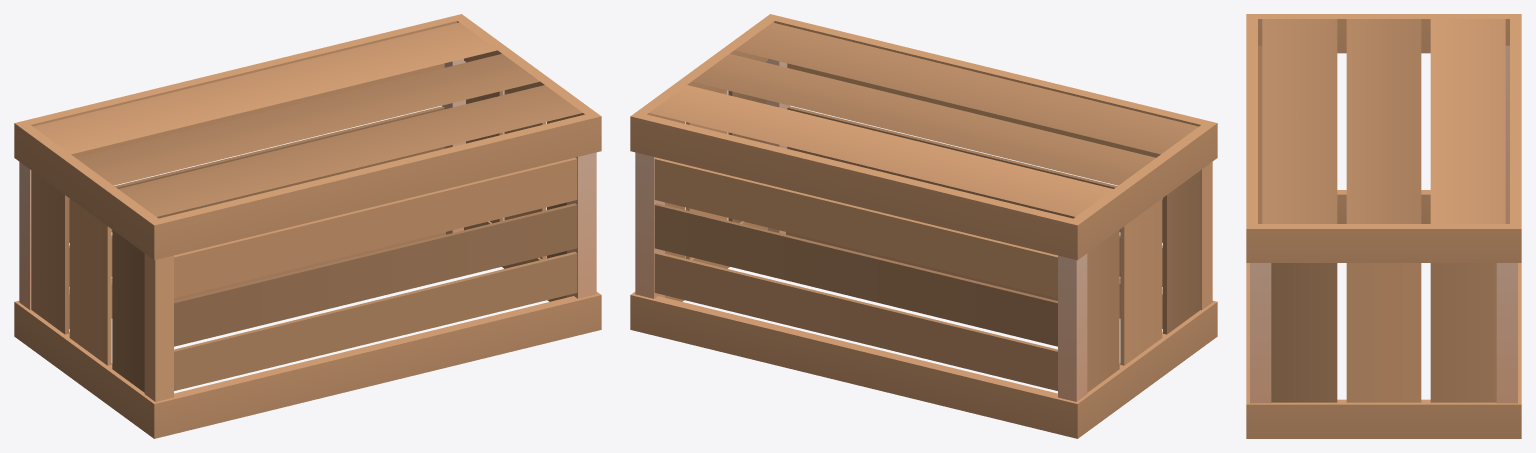
File: BoxKayu1.fbx
3 views of the same model, side by side, from view 1: azimuth 30°, elevation 25°; view 2: azimuth 150°, elevation 25°; view 3: azimuth 270°, elevation 25° (orthographic).
Parts seen in each view (by area): view 1: Cube.087; view 2: Cube.087; view 3: Cube.087.
Part boxes in pixels (x1,y1,x2,y2): Cube.087: (14,14,601,438); Cube.087: (630,14,1217,438); Cube.087: (1246,14,1521,438).
Bounding box in the file's own units: 110 × 50.03 × 59.4.
